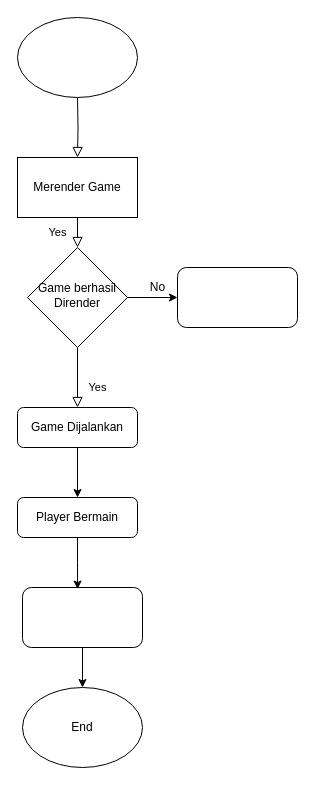
Image size: 315x785. Some labels were removed from this diagram. The box of each missing label's shape, as (x1, y1, x2, y2) in pixels:
Game Berhenti: (176, 266, 298, 328)
Player mengambil semua coin: (22, 586, 142, 648)
Start: (16, 16, 138, 98)
